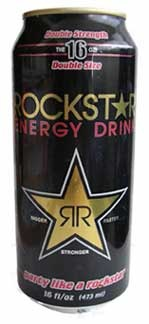grozi_113: (11, 7, 136, 313)
